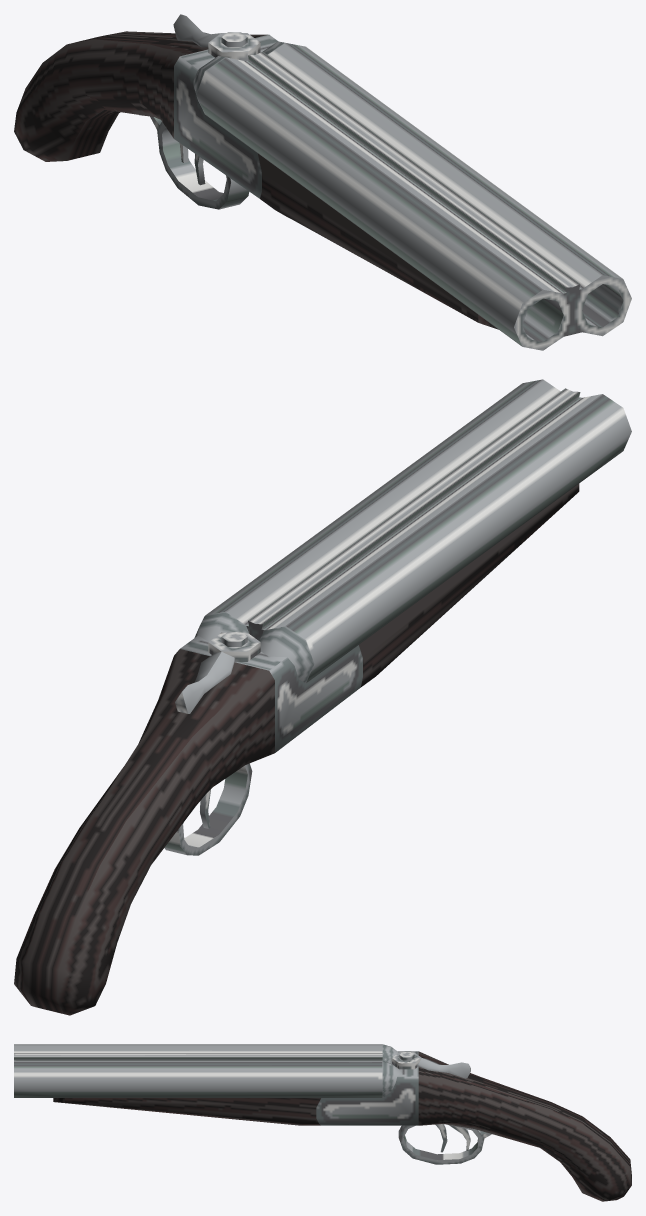
File: sawed-off_singular.gltf
The picture shows the model from 3 angles, top to bottom: view 1: azimuth 30°, elevation 25°; view 2: azimuth 150°, elevation 25°; view 3: azimuth 270°, elevation 25°; orthographic projection. The views are drawn at different scales.
Parts seen in each view (by area): view 1: handle; view 2: handle; view 3: handle.
Boxes of the visible parts, box(x1,y1,x2,y2) form: handle: box(14, 14, 631, 350); handle: box(14, 379, 631, 1015); handle: box(14, 1044, 631, 1201).
Size of the model in its own units: 0.1742 by 0.3461 by 1.36.
Materials: 2 (2 with a texture image).
